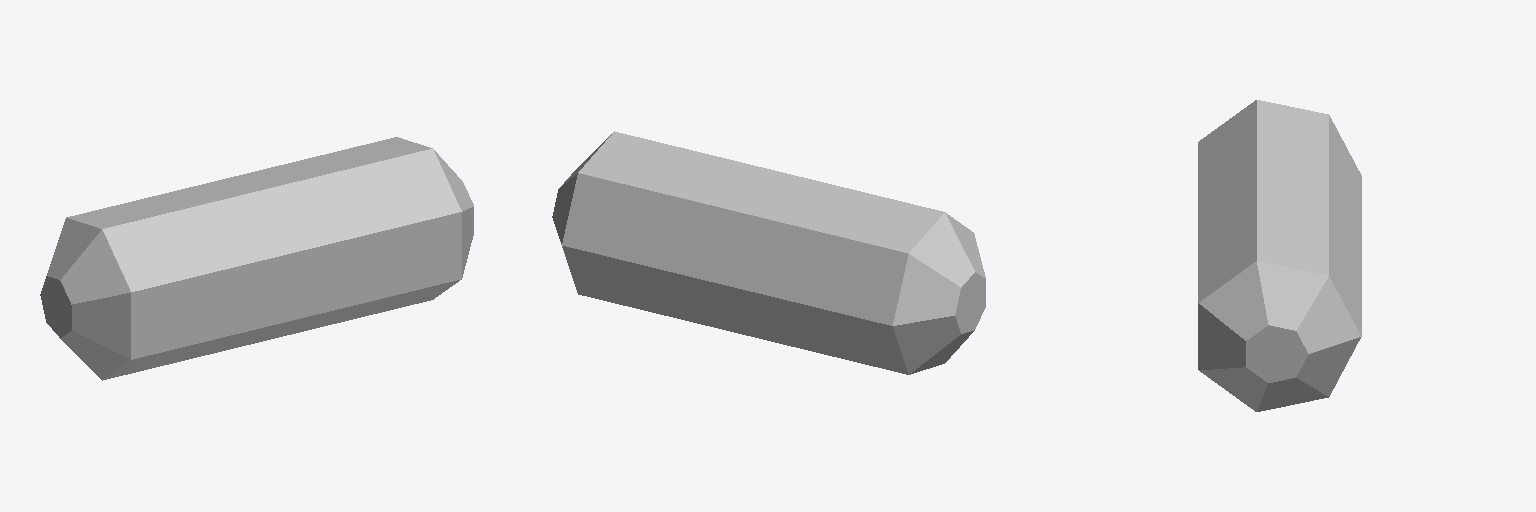
3 views of the same model, side by side, from view 1: azimuth 30°, elevation 25°; view 2: azimuth 150°, elevation 25°; view 3: azimuth 270°, elevation 25° (orthographic).
Visible parts, largest first — view 1: capsul02, capsul01; view 2: capsul02, capsul01; view 3: capsul01, capsul02.
Part boxes in pixels (bbox=[...]): capsul02: bbox=[40, 177, 296, 380]; capsul01: bbox=[232, 137, 473, 339]; capsul02: bbox=[727, 172, 985, 374]; capsul01: bbox=[552, 131, 778, 334]; capsul01: bbox=[1198, 180, 1361, 411]; capsul02: bbox=[1198, 100, 1361, 255].
Bounding box in the file's own units: 0.7156 × 0.2572 × 0.2508.